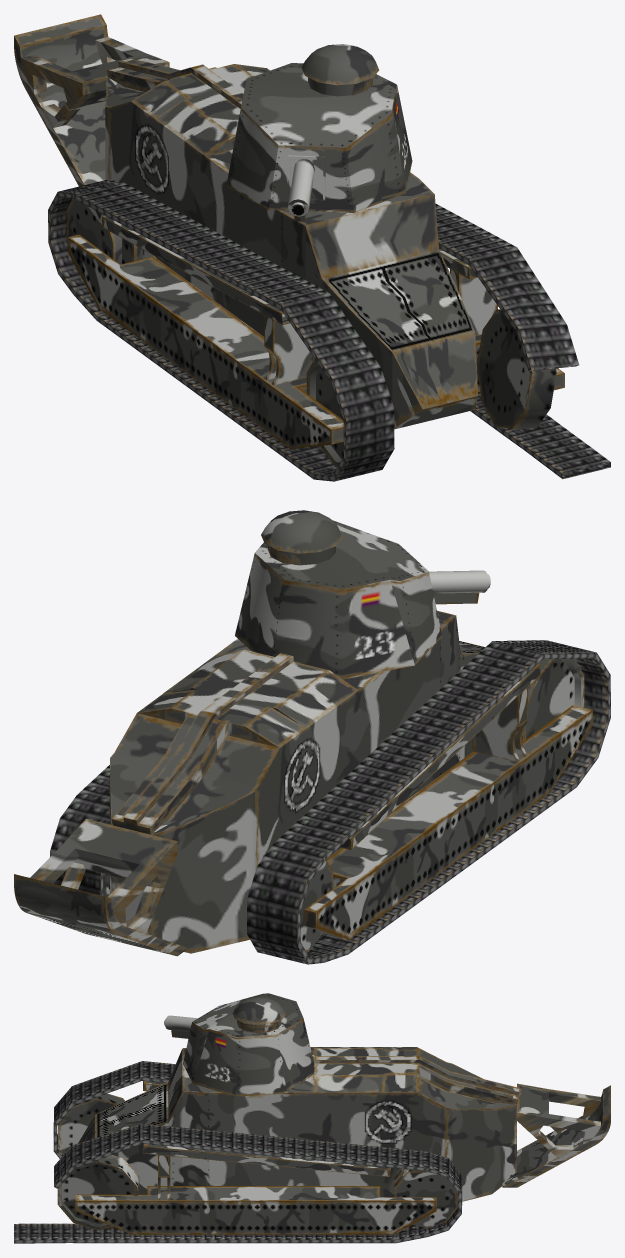
File: esrRFT17_Damaged.dae
3 views of the same model, one above another, from view 1: azimuth 30°, elevation 25°; view 2: azimuth 150°, elevation 25°; view 3: azimuth 270°, elevation 25° (orthographic). The views are drawn at different scales.
Parts seen in each view (by area): view 1: base, tracks1, turret, frontwheel, rearwheel, barrel; view 2: base, tracks1, turret, frontwheel, barrel, rearwheel; view 3: base, tracks1, turret, frontwheel, rearwheel, barrel.
Boxes of the visible parts, bbox=[...] form: base: bbox=[14, 14, 564, 449]; tracks1: bbox=[48, 180, 610, 481]; turret: bbox=[226, 44, 412, 212]; frontwheel: bbox=[306, 309, 556, 467]; rearwheel: bbox=[66, 198, 142, 264]; barrel: bbox=[288, 159, 314, 221]; base: bbox=[14, 610, 592, 956]; tracks1: bbox=[50, 640, 610, 964]; turret: bbox=[235, 510, 442, 679]; frontwheel: bbox=[522, 659, 584, 741]; barrel: bbox=[429, 570, 490, 604]; rearwheel: bbox=[103, 860, 333, 952]; base: bbox=[75, 1047, 610, 1234]; tracks1: bbox=[14, 1061, 462, 1243]; turret: bbox=[183, 993, 314, 1096]; frontwheel: bbox=[57, 1093, 139, 1229]; rearwheel: bbox=[394, 1168, 458, 1228]; barrel: bbox=[164, 1015, 197, 1038].
Bounding box in the file's own units: 18.17 × 58.14 × 22.86.
